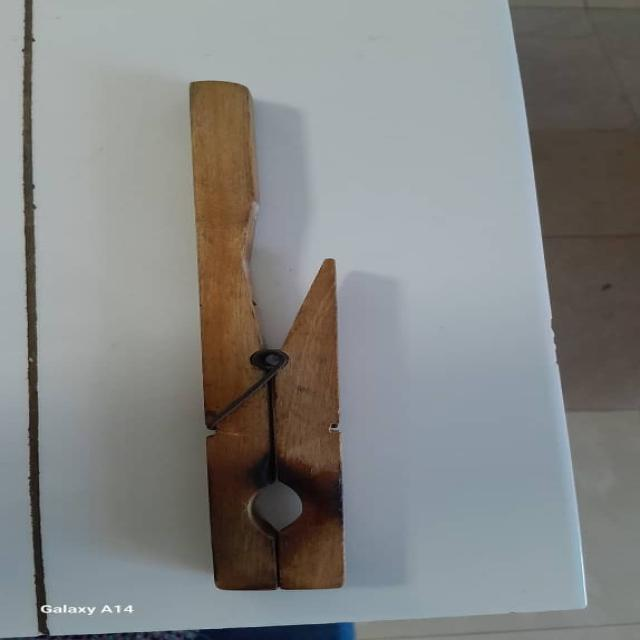Test Tube Holder: (189, 67, 355, 599)
